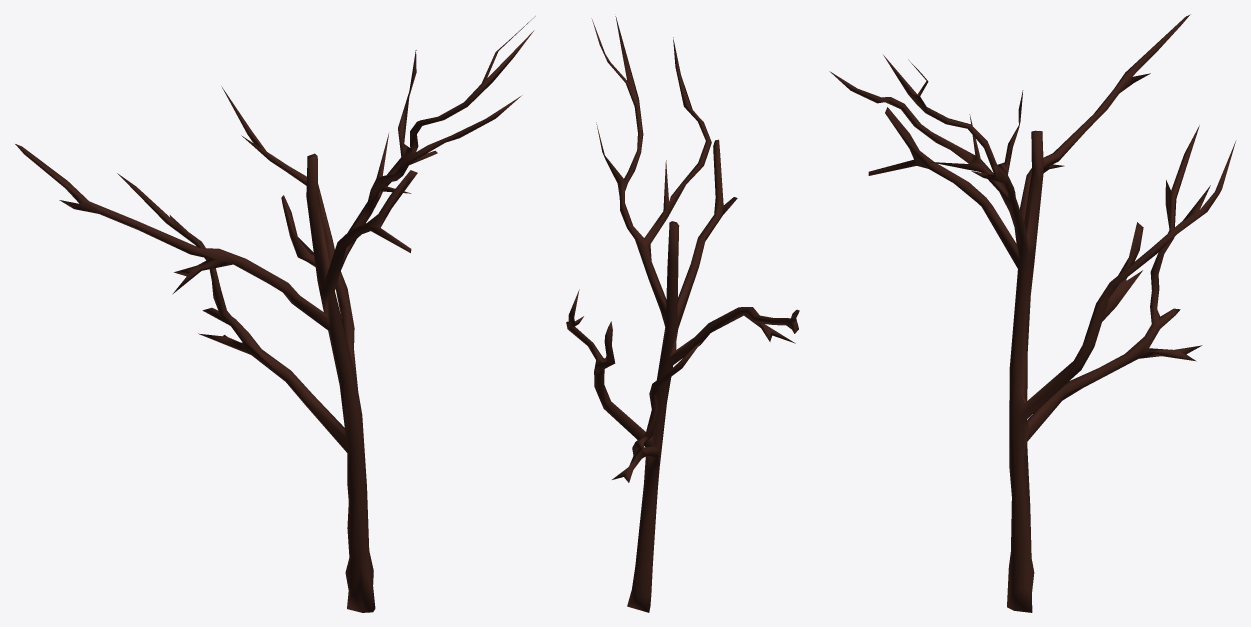
Rendered from dead_tree_c.FBX.
3 renders of one model, left to right at view 1: azimuth 30°, elevation 25°; view 2: azimuth 150°, elevation 25°; view 3: azimuth 270°, elevation 25°, orthographic. The views are drawn at different scales.
Visible parts, largest first — view 1: dead_tree_c; view 2: dead_tree_c; view 3: dead_tree_c.
Part boxes in pixels (x1,y1,x2,y2): dead_tree_c: (15,16,535,612); dead_tree_c: (566,16,799,612); dead_tree_c: (829,14,1236,612).
Size of the model in its own units: 634 by 968 by 590.
